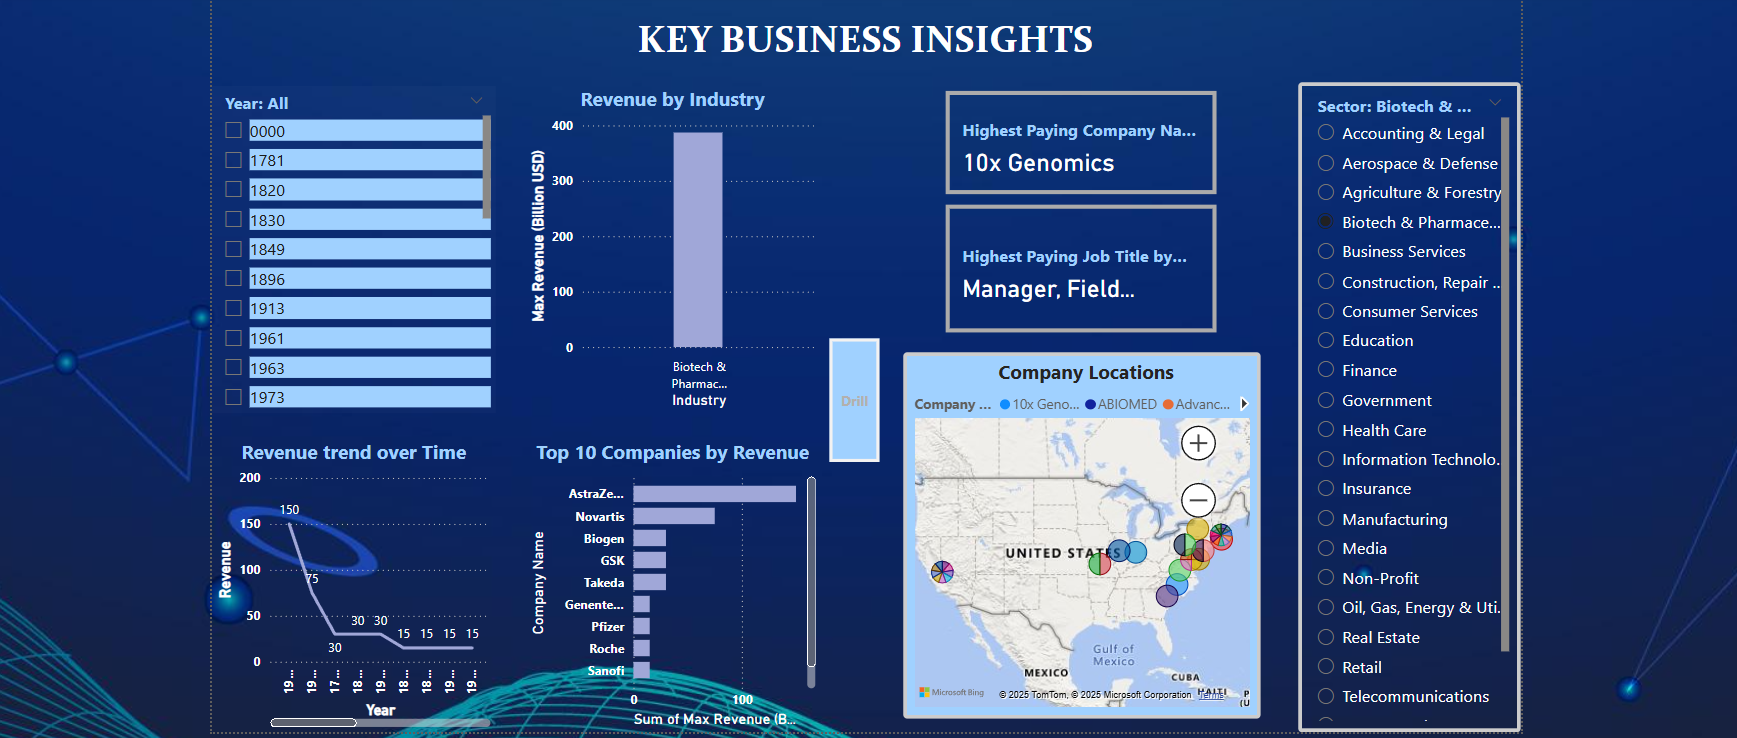

This screenshot's page, from the dashboard's own definition file:
{"tool":"powerbi","page":{"name":"Revenue Insights","canvas":[1280,720],"ordinal":1},"visuals":[{"type":"clusteredBarChart","title":"Top 10 Companies by Revenue","fields":{"Category":["Cleaned.Company Name"],"Y":["Cleaned.Max Revenue (Billion USD)"]},"box":[305.7,432.9,289.8,287.4],"z":0},{"type":"clusteredColumnChart","title":"Revenue by Industry","fields":{"Category":["Cleaned.Industry"],"Y":["Cleaned.Max Revenue (Billion USD)"]},"box":[305.7,88,289.8,320.4],"z":1000},{"type":"lineChart","title":"Revenue trend over Time","fields":{"Category":["Cleaned.Founded"],"Y":["Cleaned.Max Revenue (Billion USD)"]},"box":[0,432.9,277.6,287.4],"z":2000},{"type":"slicer","fields":{"Values":["Cleaned.Founded"]},"box":[0,88,277.6,320.4],"z":3000},{"type":"slicer","fields":{"Values":["Cleaned.Sector"]},"box":[1062.6,84.4,217.7,635.9],"z":4000},{"type":"cardVisual","title":"Hig","fields":{"Data":["Cleaned.Highest Paying Company Name by Sector"]},"box":[712.9,88,275.1,111.3],"z":5000},{"type":"cardVisual","fields":{"Data":["Cleaned.Highest Paying Job Title by Sector"]},"box":[712.9,199.3,275.1,135.7],"z":6000},{"type":"map","title":"Company Locations","fields":{"Category":["Cleaned.State"],"Series":["Cleaned.Company Name"]},"box":[676.2,348.5,349.7,358.3],"z":7000},{"type":"textbox","box":[214,14.7,849.9,56.3],"z":8000},{"type":"actionButton","box":[604.1,335.1,48.9,121.1],"z":9000}]}

Visuals, with their boxes on the page's 1280x720 design canvas (x1, y1, x2, y2). These are canvas units, not pixel positions in the 1737x738 screenshot, which may show the page scaled, cropped or inside an application window:
"Top 10 Companies by Revenue" clusteredBarChart: <bbox>306, 433, 596, 720</bbox>
"Revenue by Industry" clusteredColumnChart: <bbox>306, 88, 596, 408</bbox>
"Revenue trend over Time" lineChart: <bbox>0, 433, 278, 720</bbox>
slicer - Cleaned.Founded: <bbox>0, 88, 278, 408</bbox>
slicer - Cleaned.Sector: <bbox>1063, 84, 1280, 720</bbox>
"Hig" cardVisual: <bbox>713, 88, 988, 199</bbox>
cardVisual - Cleaned.Highest Paying Job Title by Sector: <bbox>713, 199, 988, 335</bbox>
"Company Locations" map: <bbox>676, 348, 1026, 707</bbox>
textbox: <bbox>214, 15, 1064, 71</bbox>
actionButton: <bbox>604, 335, 653, 456</bbox>
